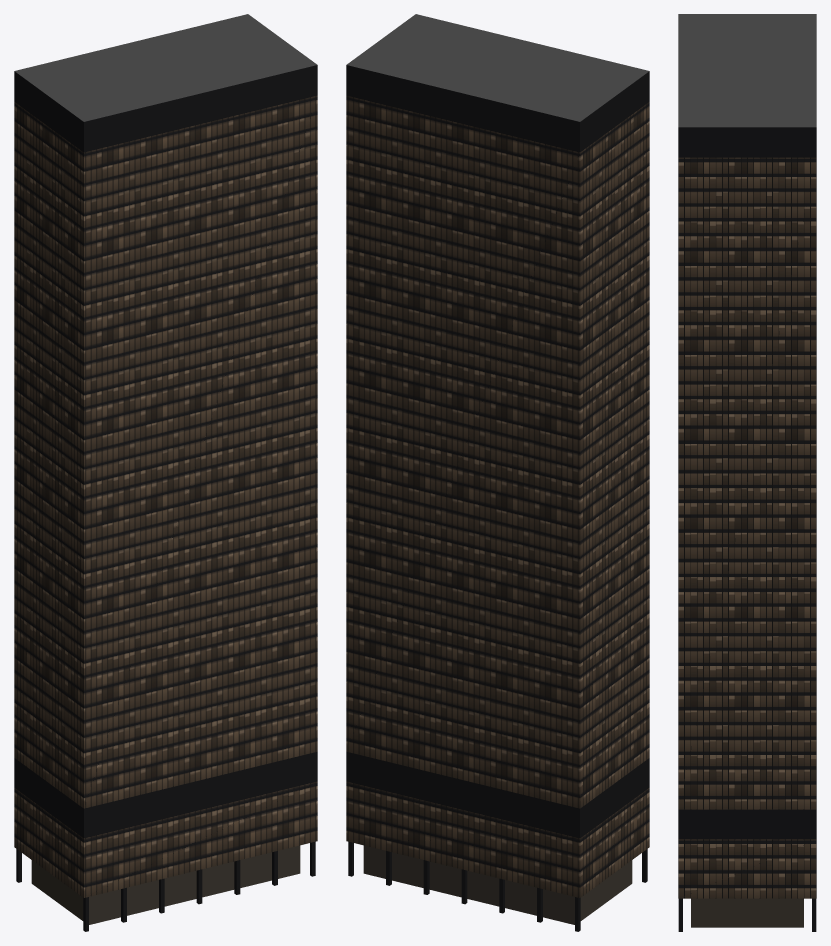
The model's file is ama_plaza_330_n_wabash.glb.
3 renders of one model, left to right at view 1: azimuth 30°, elevation 25°; view 2: azimuth 150°, elevation 25°; view 3: azimuth 270°, elevation 25°, orthographic.
Parts seen in each view (by area): view 1: ama_plaza_330_n_wabash; view 2: ama_plaza_330_n_wabash; view 3: ama_plaza_330_n_wabash.
Part boxes in pixels (x1=…): ama_plaza_330_n_wabash: x1=14, y1=14, x2=317, y2=931; ama_plaza_330_n_wabash: x1=346, y1=14, x2=649, y2=931; ama_plaza_330_n_wabash: x1=678, y1=14, x2=816, y2=931.
Size of the model in its own units: 64 by 212 by 33.
2 materials, 2 textured.
